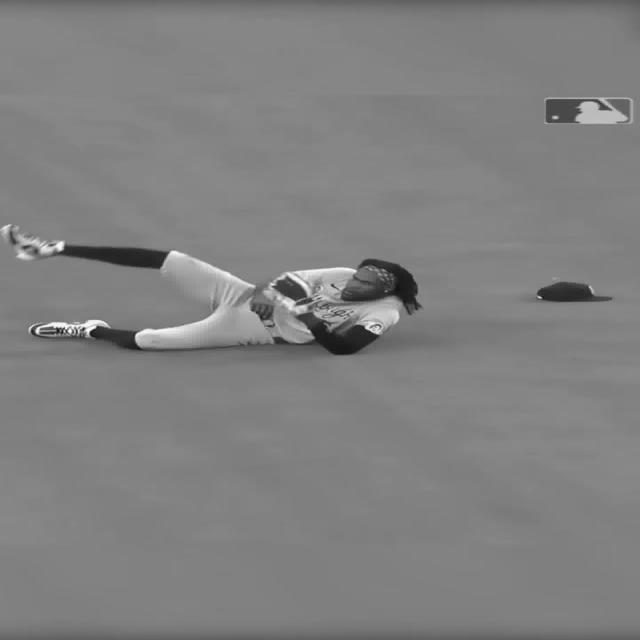baseball_glove: (272, 274, 322, 315)
shoe: (3, 224, 56, 264), (30, 318, 111, 341)
